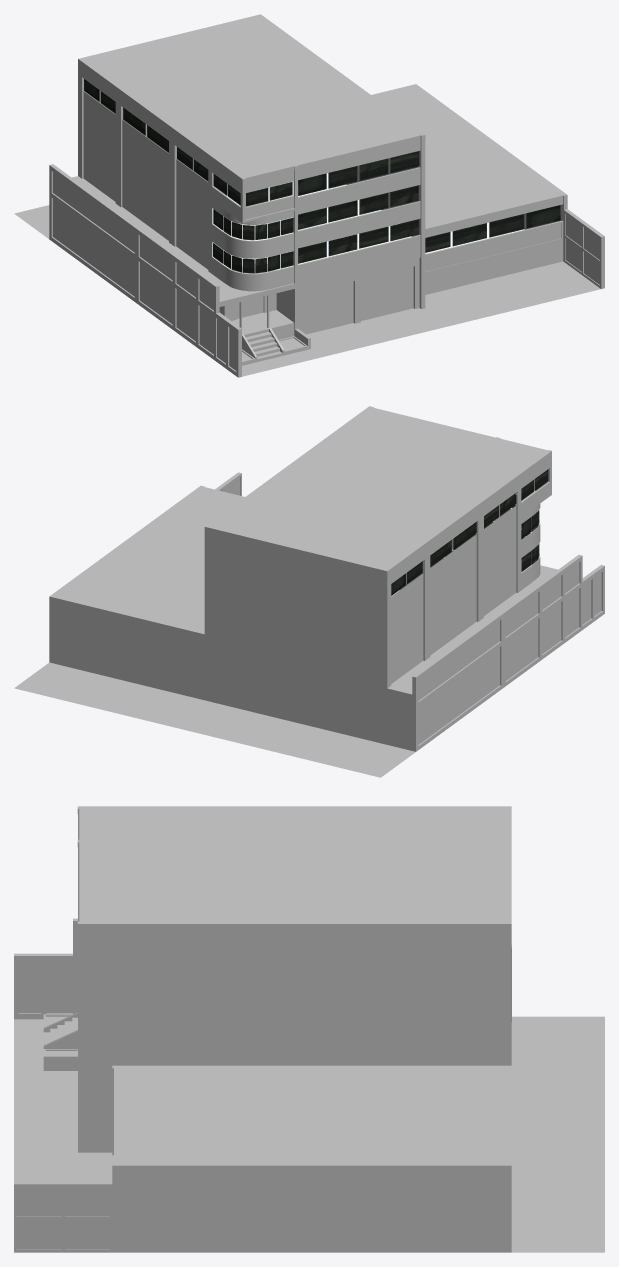
The picture shows the model from 3 angles, top to bottom: view 1: azimuth 30°, elevation 25°; view 2: azimuth 150°, elevation 25°; view 3: azimuth 270°, elevation 25°; orthographic projection. The views are drawn at different scales.
Parts seen in each view (by area): view 1: BB-001; view 2: BB-001; view 3: BB-001.
Boxes of the visible parts, x1,y1,x2,y2 form: BB-001: [14, 14, 604, 377]; BB-001: [14, 406, 604, 777]; BB-001: [14, 806, 604, 1252].
Size of what is drawn, in the model's own units: 34 by 15.38 by 36.
